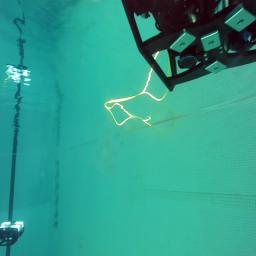Full: (120, 0, 256, 94)
Side: (0, 221, 24, 246)
